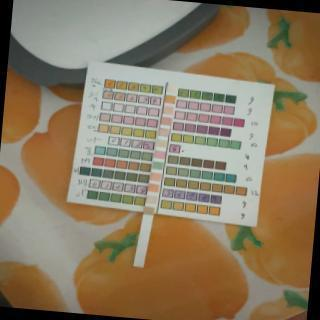mark: (161, 116, 171, 125), (152, 161, 163, 169), (148, 184, 158, 192), (150, 172, 160, 180), (154, 150, 164, 158), (156, 139, 166, 147), (162, 106, 172, 114), (164, 95, 174, 103), (159, 128, 168, 136), (144, 207, 154, 214), (167, 88, 176, 94), (148, 196, 156, 202)
